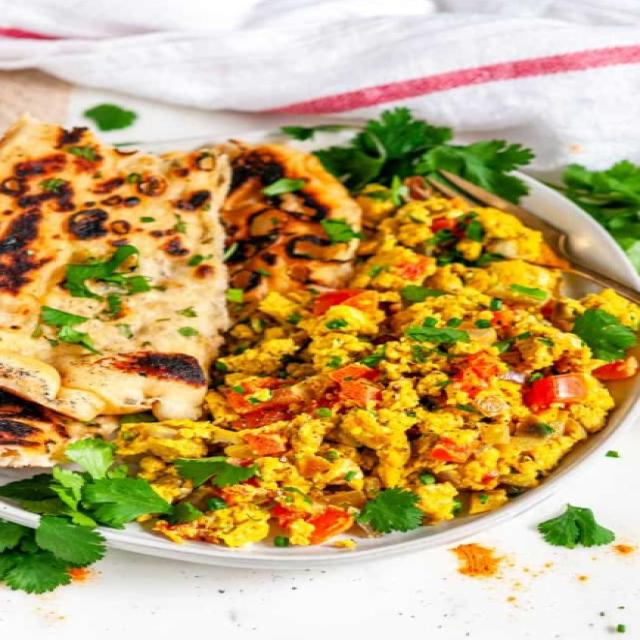EGG: (119, 176, 639, 546)
PAROTTA: (0, 118, 360, 467)
